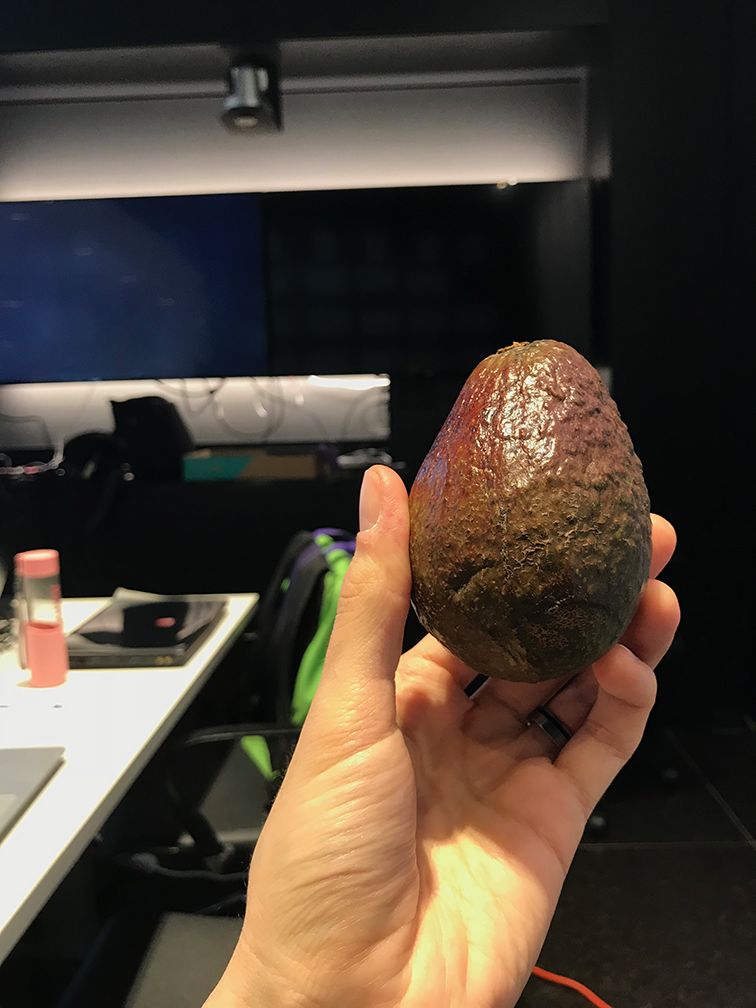avocado: (400, 332, 662, 687)
